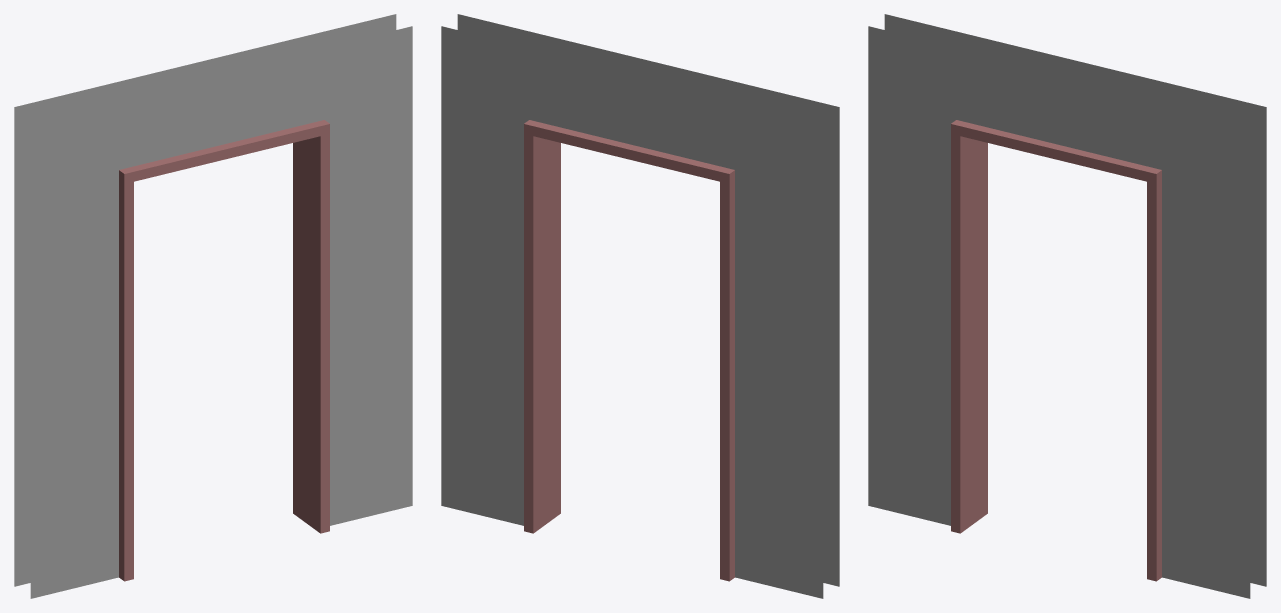
Rendered from 15Wall200x240-Door100x200.fbx.
3 views of the same model, side by side, from view 1: azimuth 30°, elevation 25°; view 2: azimuth 150°, elevation 25°; view 3: azimuth 330°, elevation 25° (orthographic).
Parts seen in each view (by area): view 1: outdoorWallDoorframe, DoorFrame, indoorWallDoorframe; view 2: indoorWallDoorframe, DoorFrame, outdoorWallDoorframe; view 3: outdoorWallDoorframe, DoorFrame, indoorWallDoorframe.
Part boxes in pixels (bbox=[...]): outdoorWallDoorframe: bbox=[30, 26, 412, 598]; DoorFrame: bbox=[119, 120, 329, 581]; indoorWallDoorframe: bbox=[14, 14, 396, 586]; indoorWallDoorframe: bbox=[441, 26, 823, 598]; DoorFrame: bbox=[524, 120, 734, 581]; outdoorWallDoorframe: bbox=[457, 14, 839, 586]; outdoorWallDoorframe: bbox=[868, 26, 1250, 598]; DoorFrame: bbox=[951, 120, 1161, 581]; indoorWallDoorframe: bbox=[884, 14, 1266, 586].
Bounding box in the file's own units: 2 × 2.4 × 0.25.
